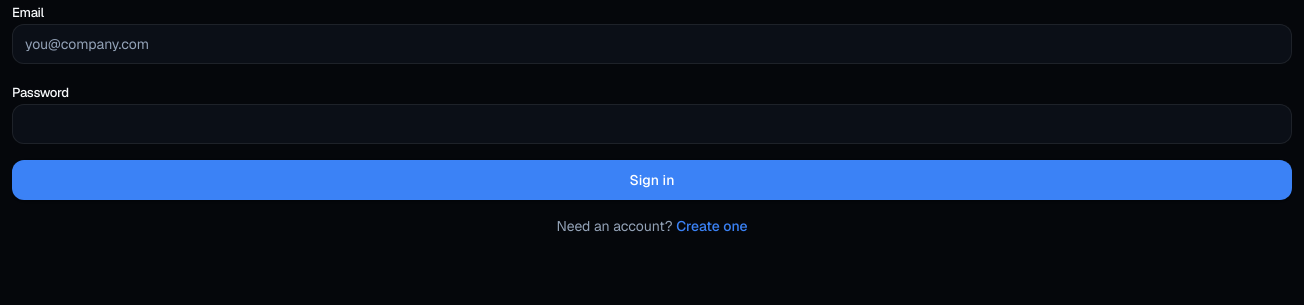
Test: LoginForm › requires an email and password before submitting
The image size is (1304, 305).
Click the button "Sign in" at (652, 180), box [12,160,1292,200]
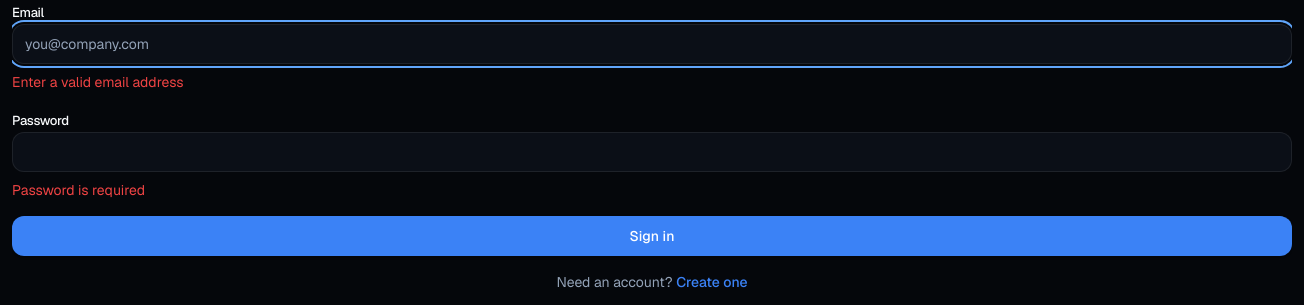
Now the text "Enter a valid email address" is shown, box [12,73,184,91]
Now the text "Password is required" is shown, box [12,181,145,199]
